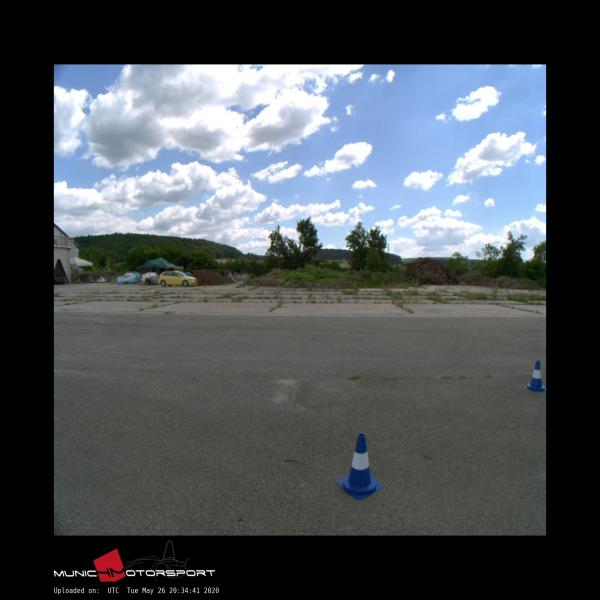blue_cone: (337, 433, 383, 500), (523, 360, 546, 391)
